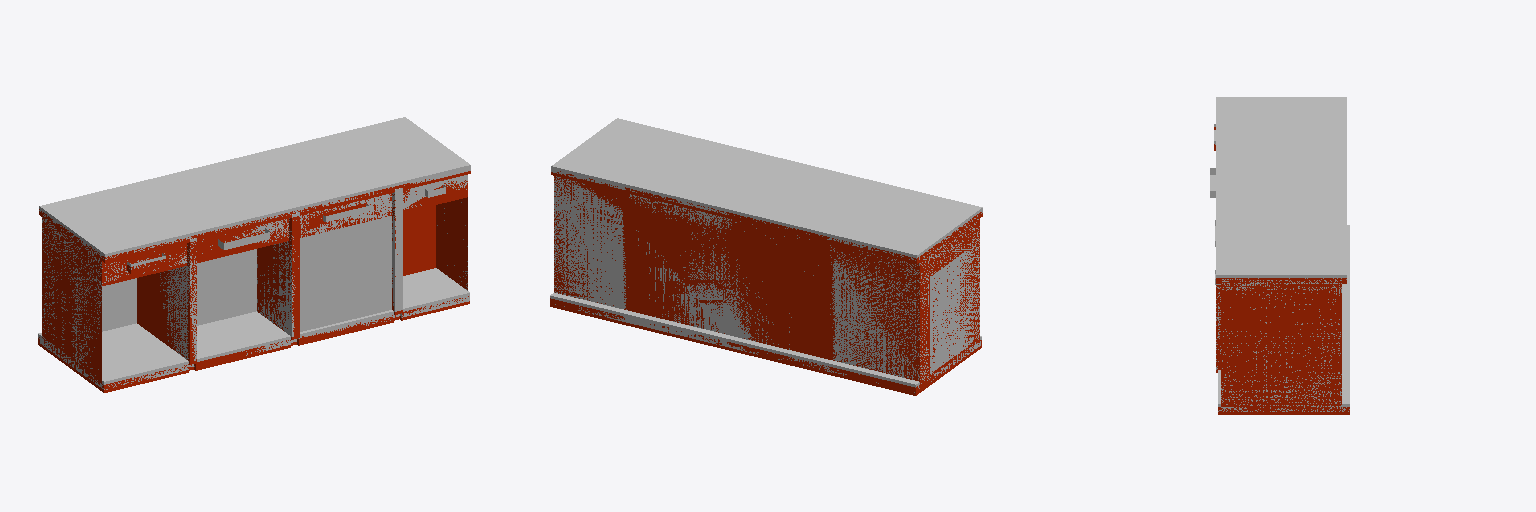
File: table.obj
The picture shows the model from 3 angles: view 1: azimuth 30°, elevation 25°; view 2: azimuth 150°, elevation 25°; view 3: azimuth 270°, elevation 25°; orthographic projection.
Parts seen in each view (by area): view 1: Cube.001, Cube; view 2: Cube.001, Cube; view 3: Cube.001, Cube.
Boxes of the visible parts, x1=… form: Cube.001: x1=38, y1=117, x2=470, y2=389; Cube: x1=38, y1=171, x2=470, y2=392; Cube.001: x1=550, y1=118, x2=982, y2=392; Cube: x1=550, y1=171, x2=982, y2=395; Cube.001: x1=1210, y1=97, x2=1349, y2=411; Cube: x1=1214, y1=127, x2=1349, y2=414.
Size of the model in its own units: 14 by 5.11 by 4.64.